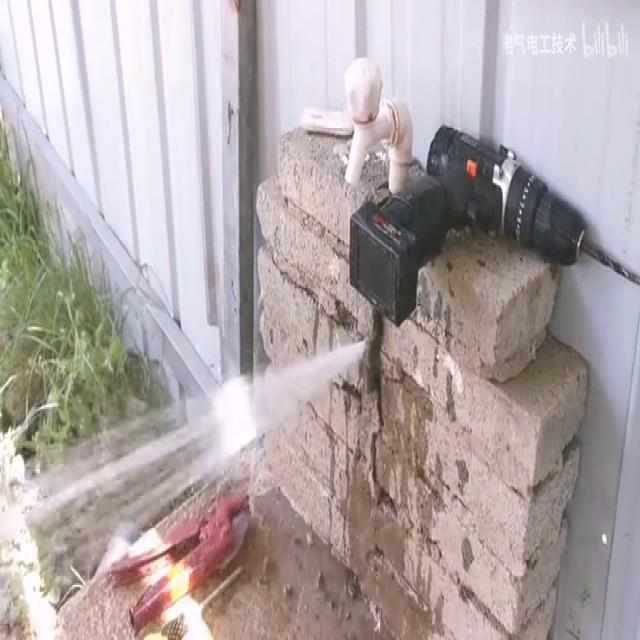leak: (0, 337, 368, 640)
